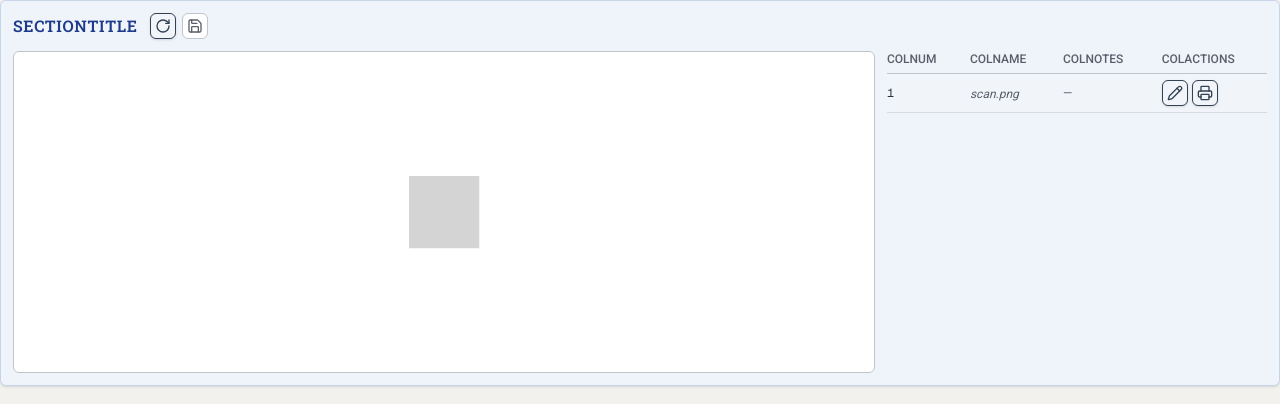
Test: the turn in the „Pagini” tile › cycles 180 → 270 → 0 → 90 → 180; back at the stored turn, nothing to save
Click the button named "rotateRight" at (163, 26), box [150,13,176,39]
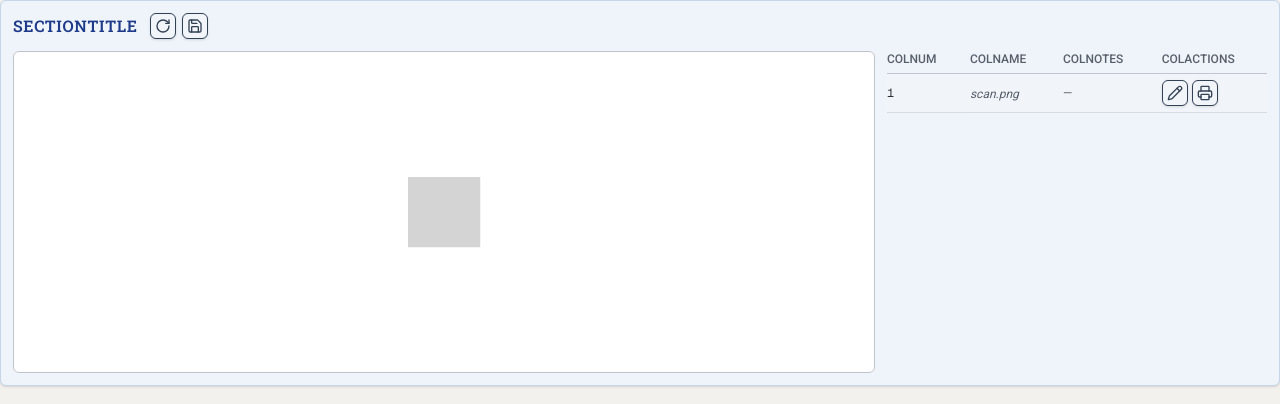
Result: the button named "saveRotation" is enabled at [182,13,208,39]
Click the button named "rotateRight" at (163, 26), box [150,13,176,39]
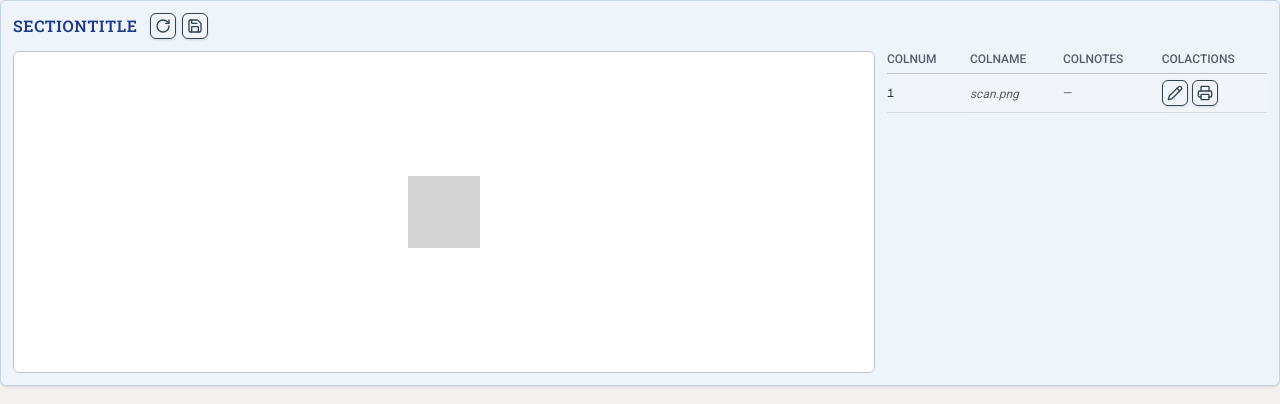
Result: the button named "saveRotation" is enabled at [182,13,208,39]
Click the button named "rotateRight" at (163, 26), box [150,13,176,39]
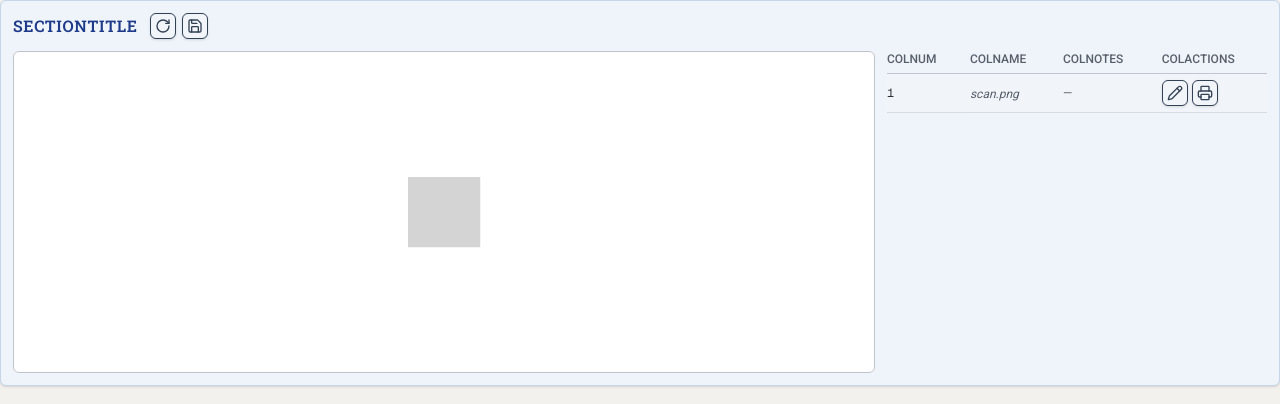
Result: the button named "saveRotation" is enabled at [182,13,208,39]
Click the button named "rotateRight" at (163, 26), box [150,13,176,39]
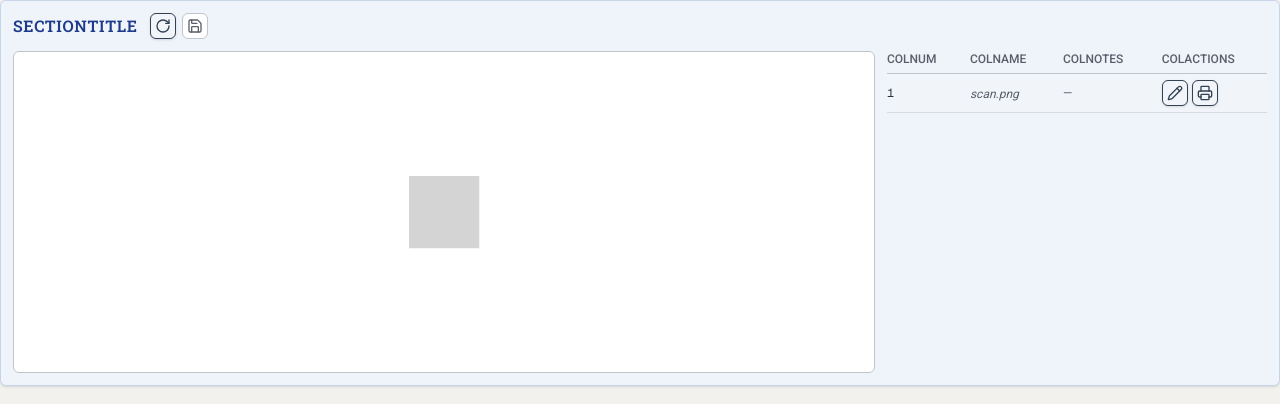
Result: the button named "saveRotation" is disabled at [182,13,208,39]
